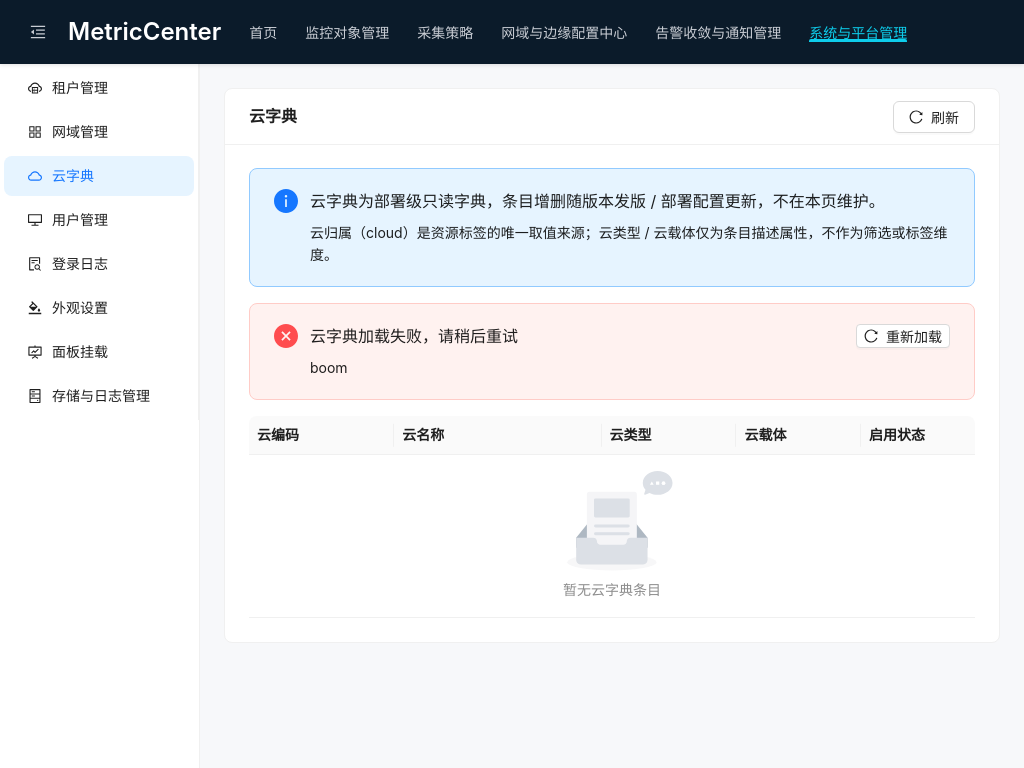
Test: CloudDictPage › 加载失败展示错误 Alert，点击「重新加载」触发重新请求
Expected: the text "云字典加载失败，请稍后重试" is shown, top-left (310, 326), bottom-right (518, 346)
Click the button "重新加载": (903, 336) top-left (856, 324), bottom-right (950, 348)
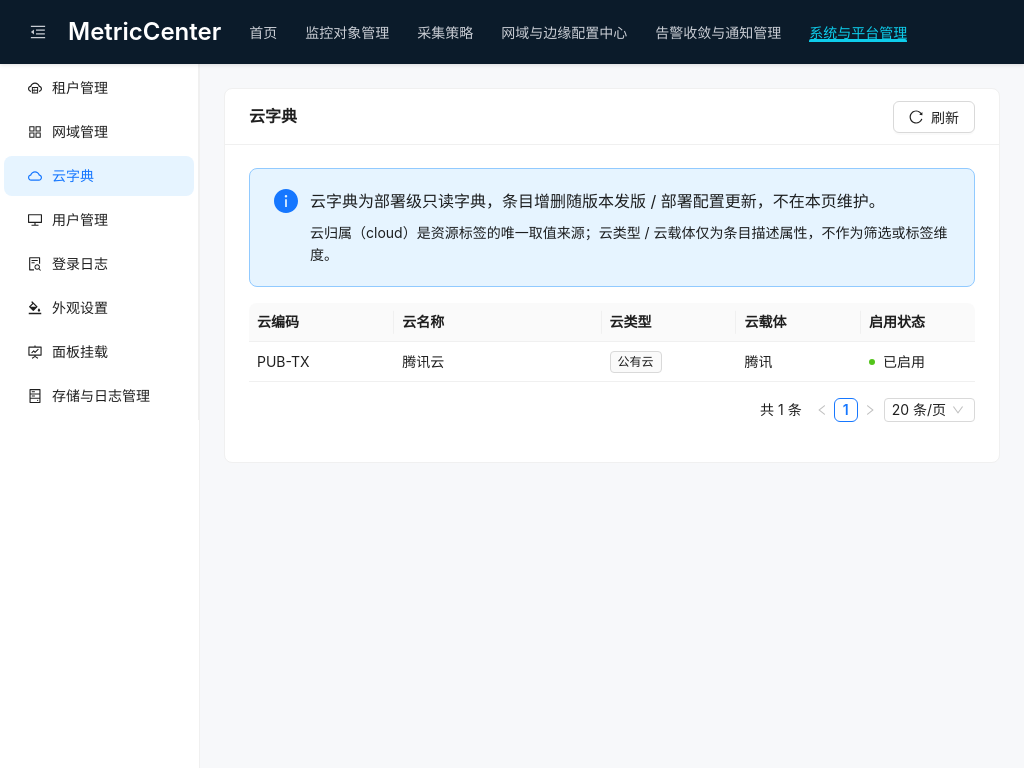
Now the text "PUB-TX" is shown, box top-left (257, 351), bottom-right (310, 373)
